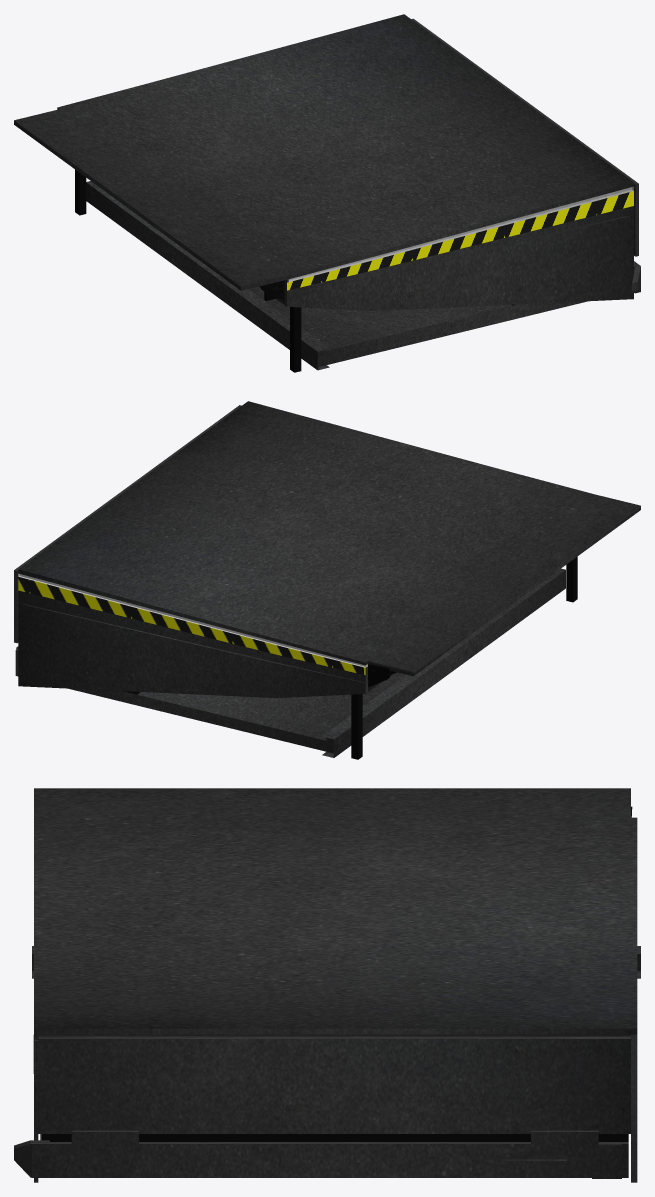
The model's file is dock_leveller.glb.
The picture shows the model from 3 angles, top to bottom: view 1: azimuth 30°, elevation 25°; view 2: azimuth 150°, elevation 25°; view 3: azimuth 270°, elevation 25°; orthographic projection. The views are drawn at different scales.
Parts seen in each view (by area): view 1: DockLeveller; view 2: DockLeveller; view 3: DockLeveller.
Part boxes in pixels (x1=…): DockLeveller: x1=14, y1=14, x2=640, y2=372; DockLeveller: x1=14, y1=401, x2=640, y2=759; DockLeveller: x1=14, y1=788, x2=640, y2=1182.
Size of the model in its own units: 2.47 by 0.6863 by 2.54.
Materials: 7 (4 with a texture image).
